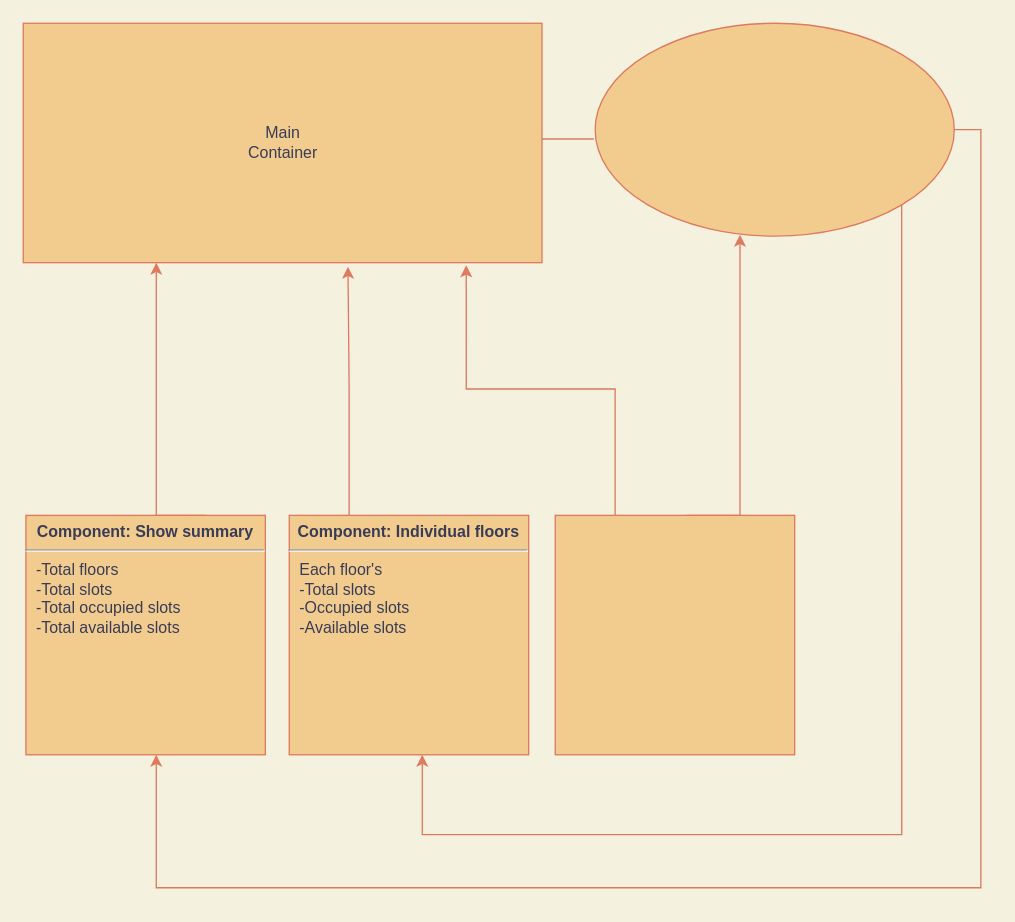
Image size: 1015x922. Some labels were removed from this diagram. Here are the shapes that lost their labels. From the top down, the centre of each, then its label:
(x=774, y=129): Parking State
(x=674, y=634): Component: Update floor Update: -Select floor -change total parking lots.
